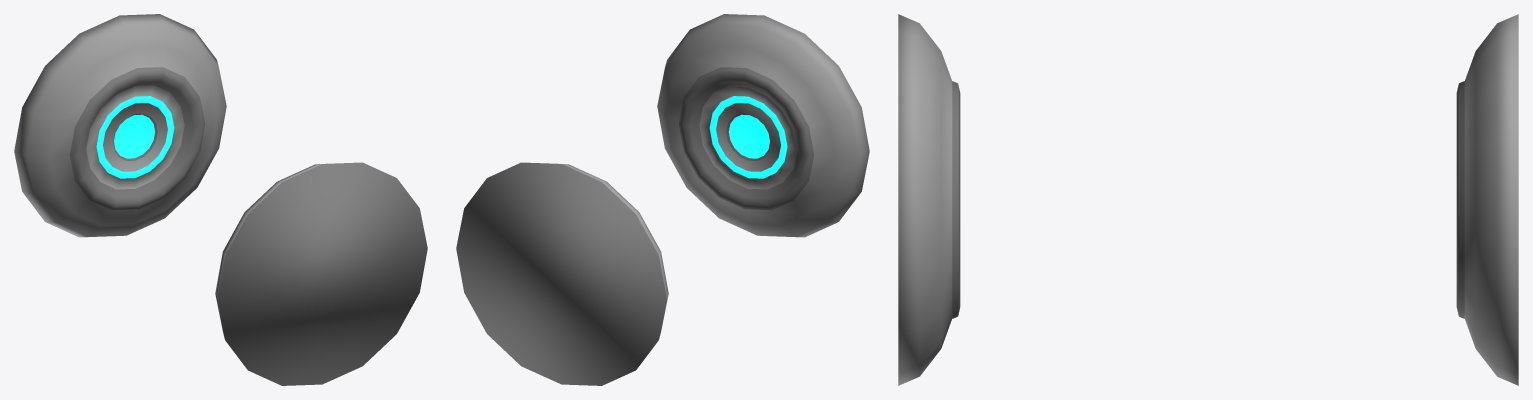
The model's file is obj_teleporter2.glb.
3 views of the same model, side by side, from view 1: azimuth 30°, elevation 25°; view 2: azimuth 150°, elevation 25°; view 3: azimuth 270°, elevation 25° (orthographic). The views are drawn at different scales.
Parts seen in each view (by area): view 1: tele_base; view 2: tele_base; view 3: tele_base.
Part boxes in pixels (left/top/right/bottom): tele_base: left=14, top=14, right=427, bottom=385; tele_base: left=456, top=14, right=869, bottom=385; tele_base: left=898, top=14, right=1518, bottom=385.
Size of the model in its own units: 9.6 by 9.6 by 16.
